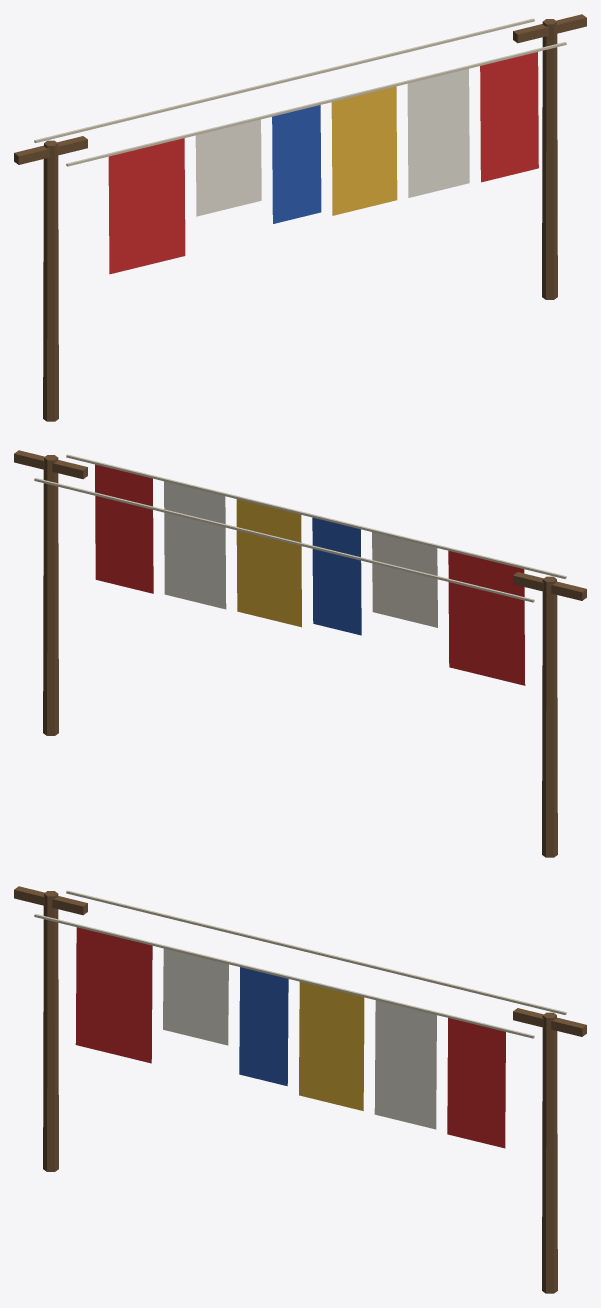
File: Yard_Clothesline.obj
3 views of the same model, one above another, from view 1: azimuth 30°, elevation 25°; view 2: azimuth 150°, elevation 25°; view 3: azimuth 330°, elevation 25° (orthographic).
Visible parts, largest first — view 1: Yard_Clothesline; view 2: Yard_Clothesline; view 3: Yard_Clothesline.
Boxes of the visible parts, x1=… form: Yard_Clothesline: x1=14, y1=14, x2=586, y2=421; Yard_Clothesline: x1=14, y1=450, x2=586, y2=857; Yard_Clothesline: x1=14, y1=886, x2=586, y2=1293.
Bounding box in the file's own units: 4.1 × 1.9 × 0.4175.
